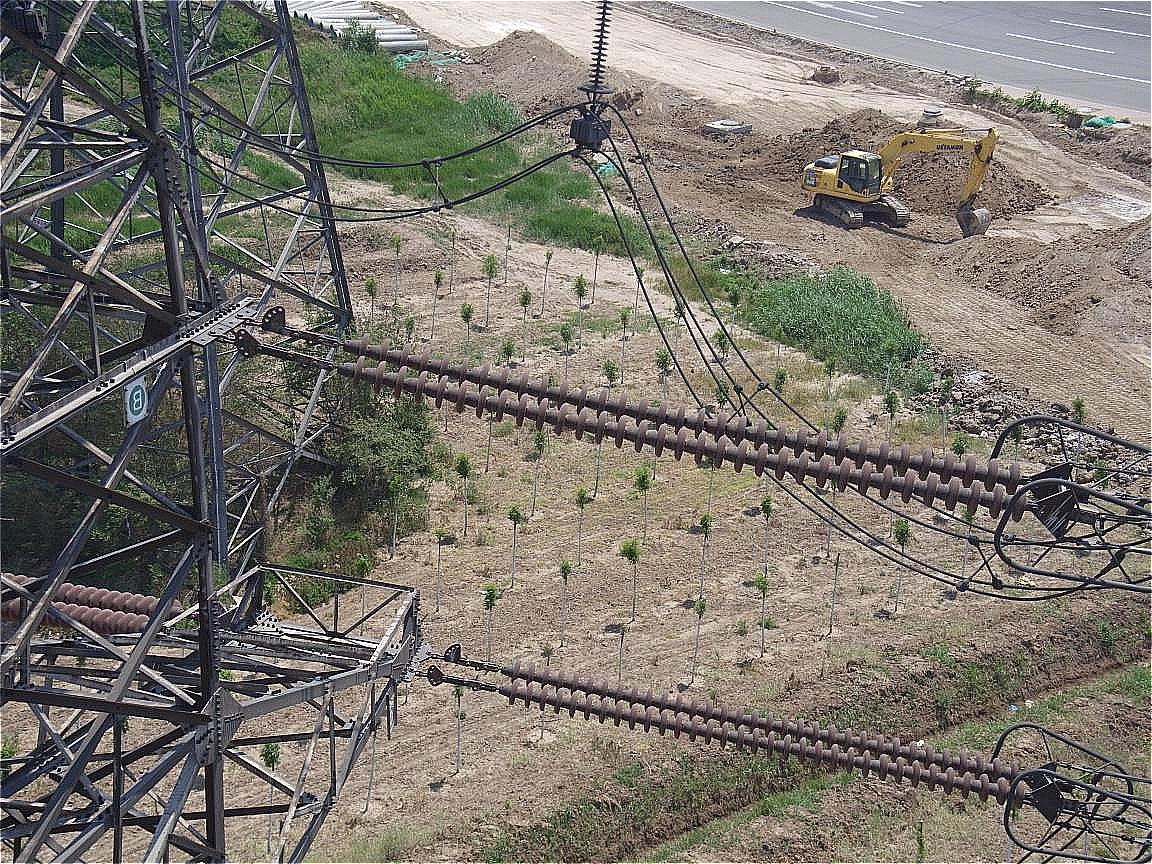insultor1: (327, 321, 1054, 532), (499, 651, 1039, 815)
